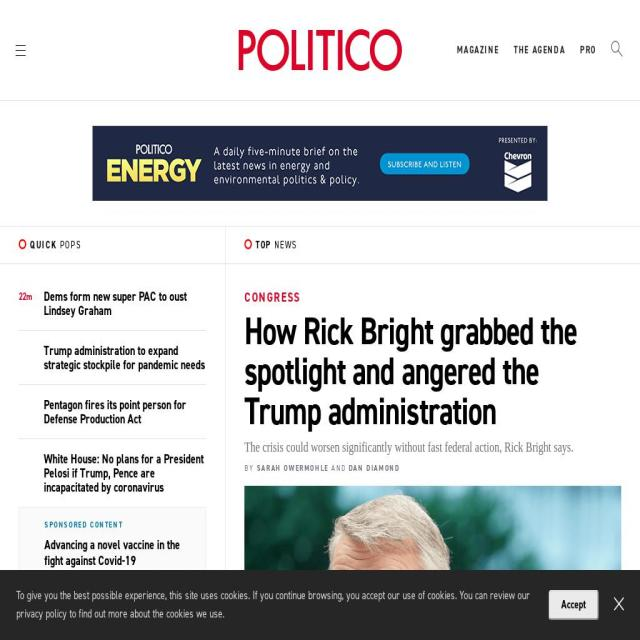button: (238, 29, 402, 71), (549, 590, 599, 620), (506, 42, 573, 58), (449, 42, 507, 58), (604, 39, 630, 61), (572, 42, 604, 58), (614, 597, 624, 613)
heading: (244, 306, 577, 436), (30, 238, 58, 252), (271, 238, 298, 252), (57, 238, 82, 252), (256, 238, 272, 252)
iframe: (92, 126, 548, 201), (19, 507, 206, 605)
image: (244, 486, 622, 640)
link: (44, 450, 204, 496), (44, 342, 205, 373), (44, 288, 187, 319), (44, 396, 186, 427), (44, 616, 193, 640), (244, 288, 300, 306), (256, 462, 329, 473), (348, 462, 399, 473)
text: (16, 587, 534, 623), (244, 438, 622, 457), (18, 289, 44, 318), (328, 462, 349, 473), (244, 462, 257, 473)
